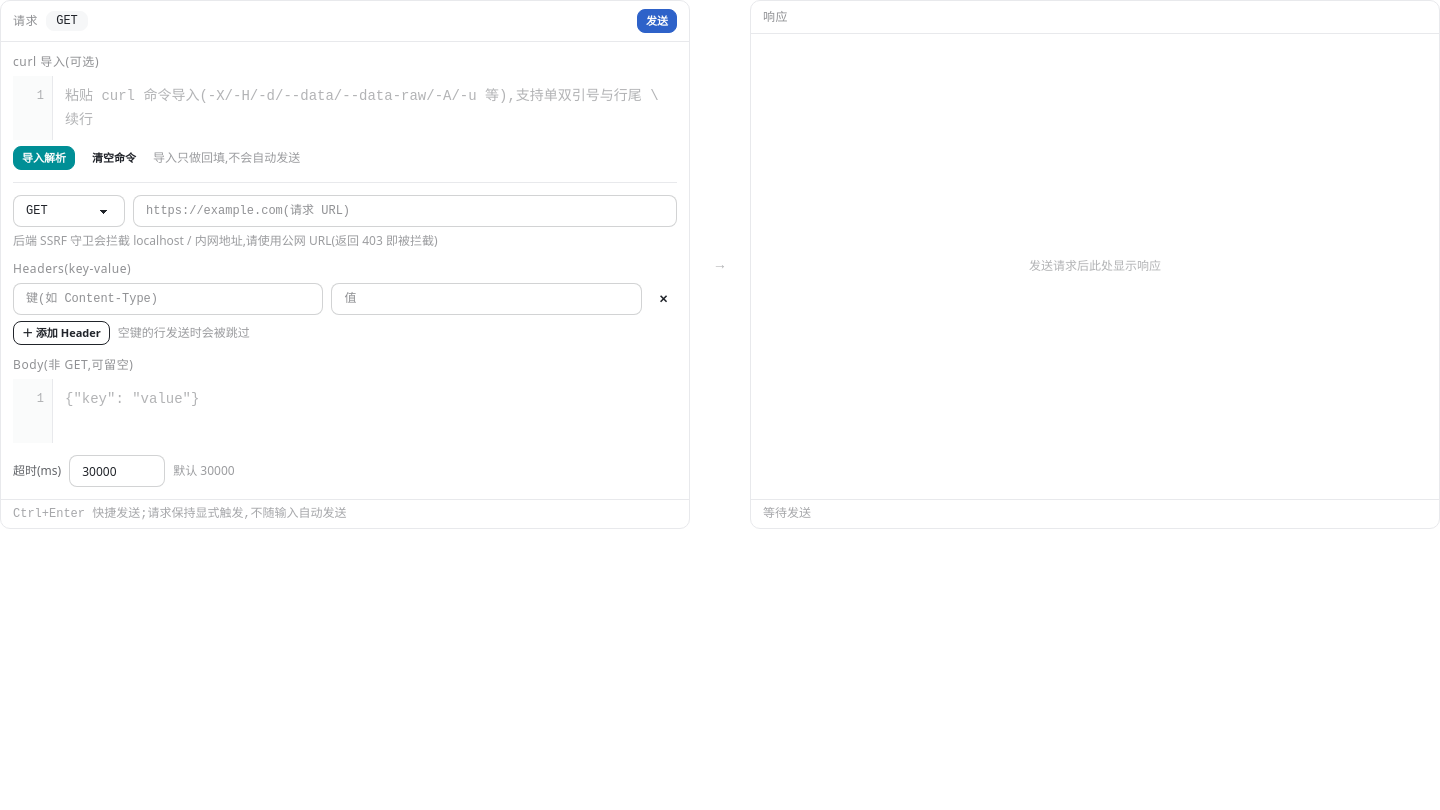
Test case: HttpTester 显式式交互(FE3) › Ctrl+Enter 触发发送并渲染结果
The width and height of the screenshot is (1440, 810).
Type "https://example.com" into the field with placeholder "https://example.com(请求 URL)" at (405, 211), box left=133, top=195, right=677, bottom=227
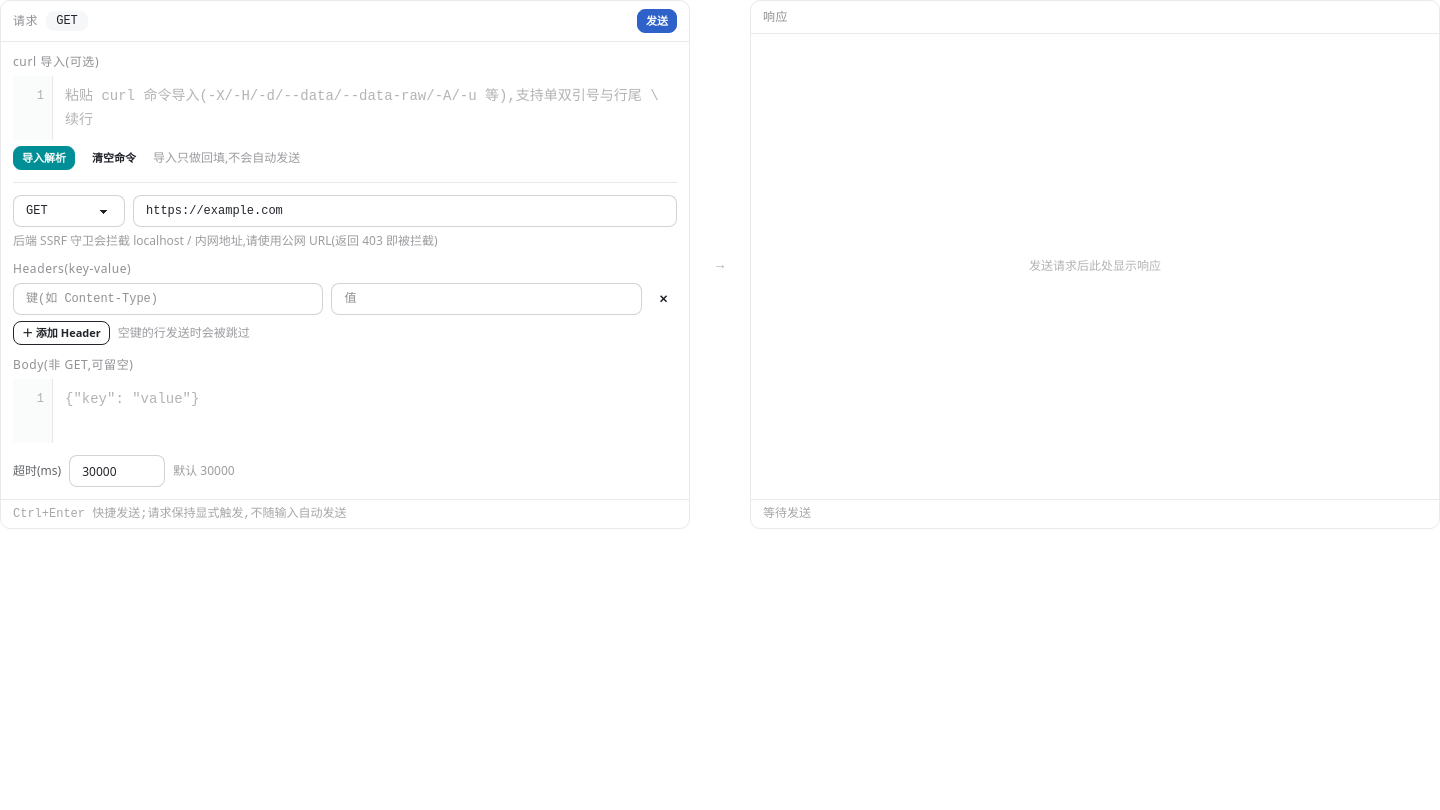
Press Ctrl in the field named "请求 URL", box left=133, top=195, right=677, bottom=227
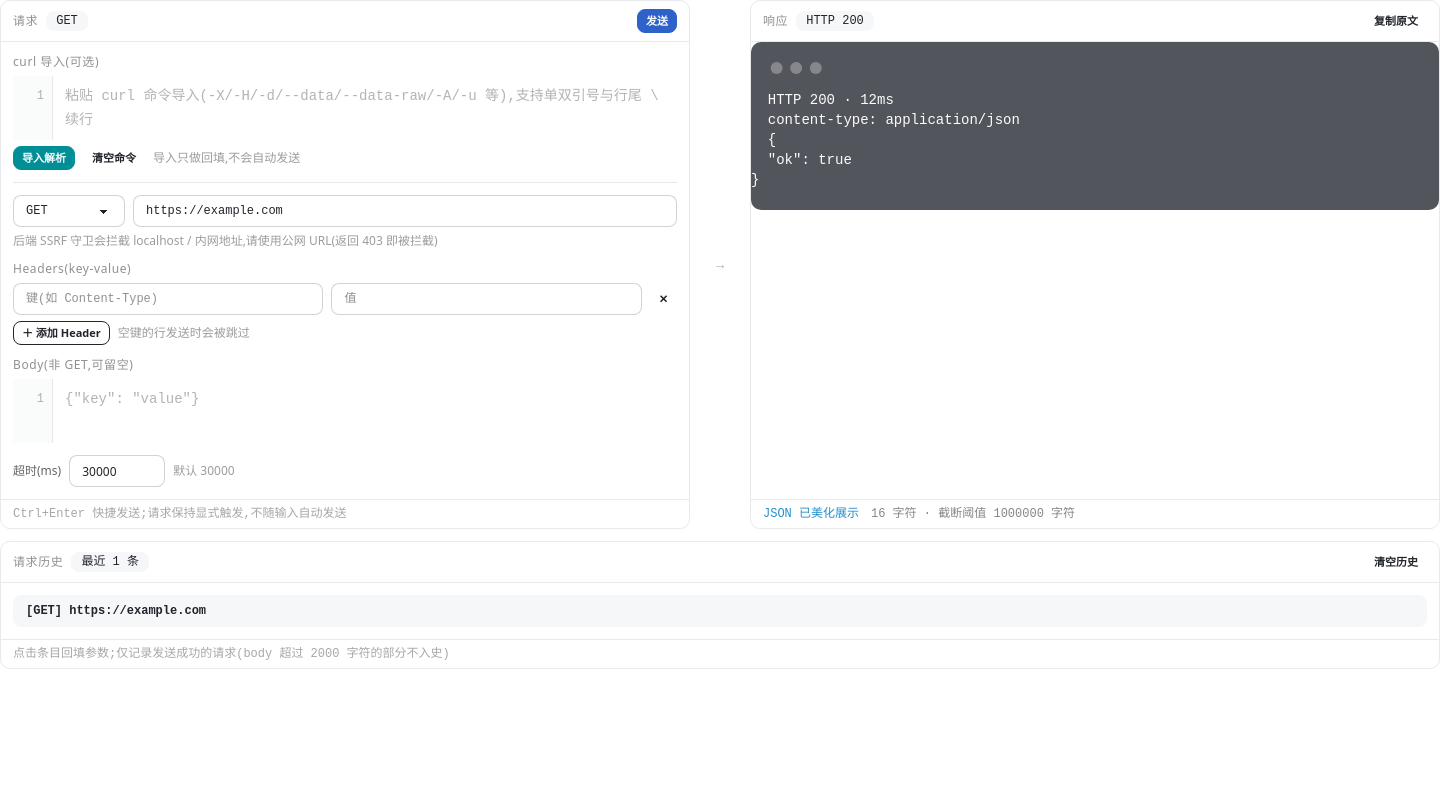
Expected: the text "GET" is shown, left=46, top=11, right=88, bottom=31
Result: the text "HTTP 200" is shown at left=796, top=11, right=874, bottom=31
